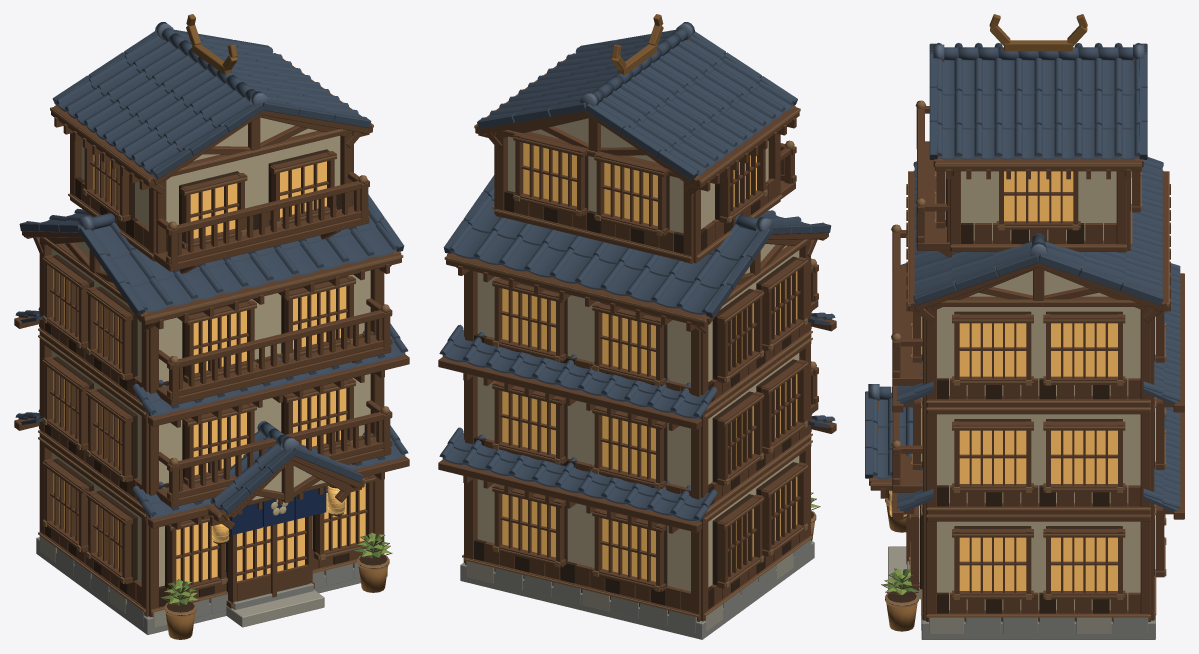
The picture shows the model from 3 angles, left to right: view 1: azimuth 30°, elevation 25°; view 2: azimuth 150°, elevation 25°; view 3: azimuth 270°, elevation 25°; orthographic projection. The views are drawn at different scales.
Visible parts, largest first — view 1: compact_tower_3_geometry, compact_tower_3_geometry ceramic; view 2: compact_tower_3_geometry, compact_tower_3_geometry ceramic; view 3: compact_tower_3_geometry, compact_tower_3_geometry ceramic.
Part boxes in pixels (x1=…): compact_tower_3_geometry: x1=14, y1=14, x2=409, y2=639; compact_tower_3_geometry ceramic: x1=15, y1=22, x2=408, y2=518; compact_tower_3_geometry: x1=438, y1=14, x2=836, y2=639; compact_tower_3_geometry ceramic: x1=439, y1=22, x2=835, y2=522; compact_tower_3_geometry: x1=869, y1=14, x2=1184, y2=639; compact_tower_3_geometry ceramic: x1=865, y1=43, x2=1180, y2=512.
Size of the model in its own units: 0.9166 by 1.76 by 0.9054.
